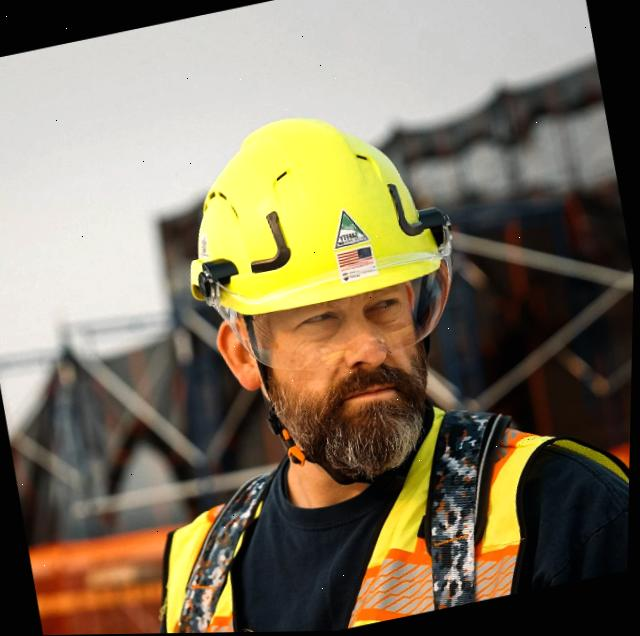helmet: (156, 94, 441, 324)
vest: (138, 405, 581, 634)
